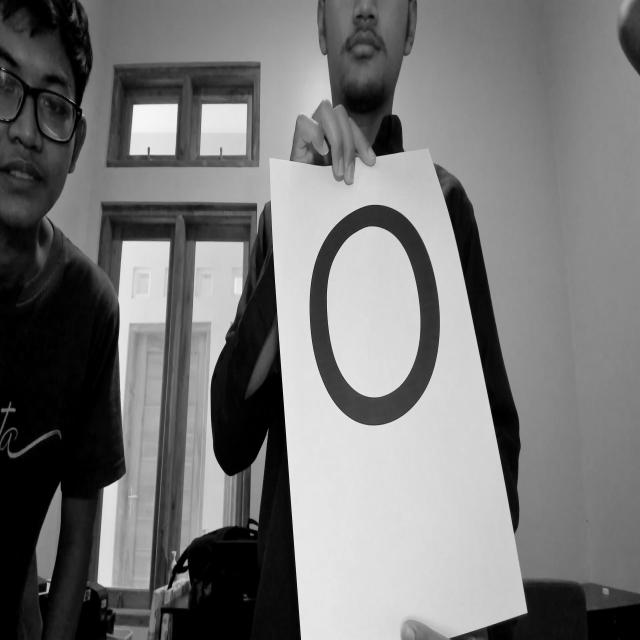o: (270, 168, 448, 450)
